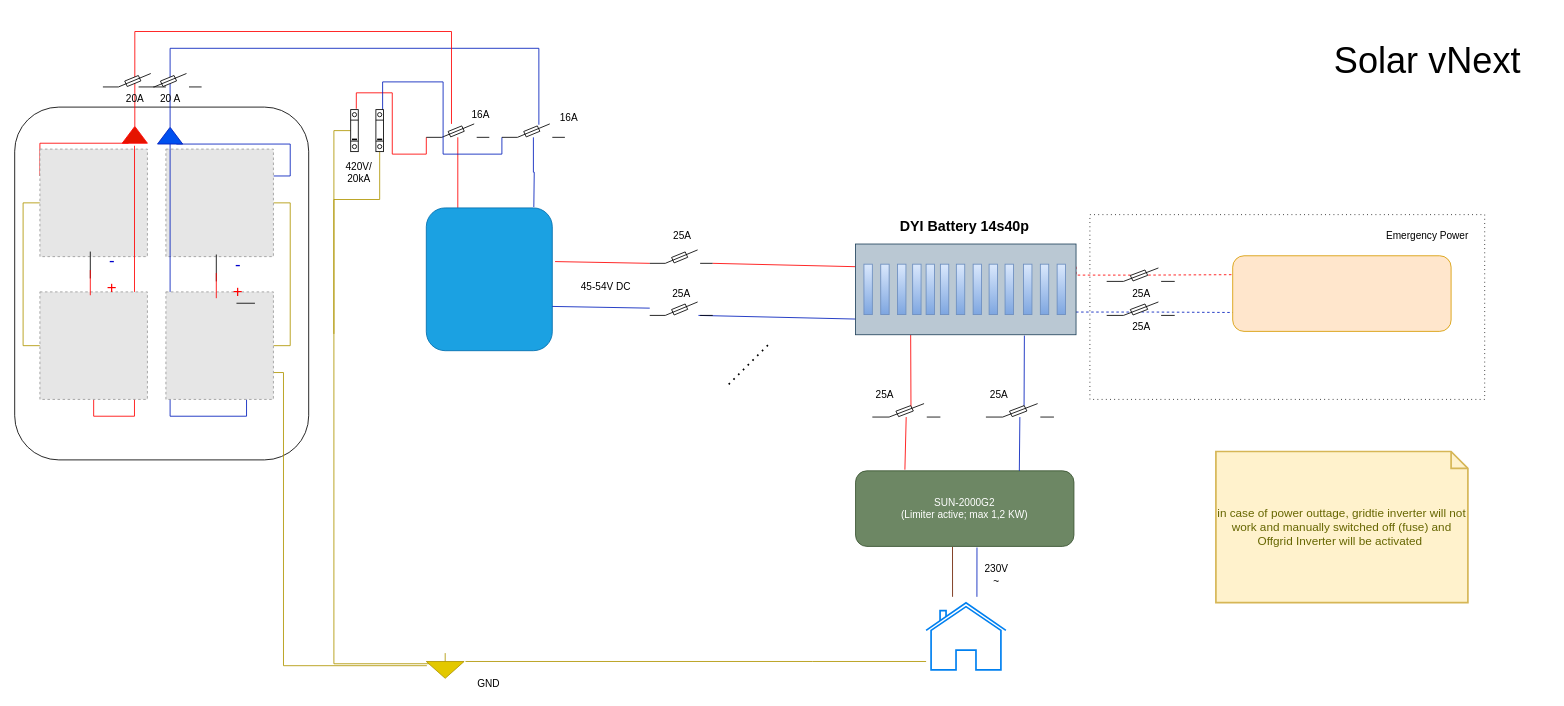
The diagram is 1564 pixels wide and 706 high, and some of its shapes have lost their labels. Grey dashed boxes stand in for pictures. The centre of each missing label's shape, as x and y in pixels:
House electricity power grid: (x=965, y=635)
OffGrid Inverter (Emergency Power; 1,2 KW cont.): (x=1341, y=293)
PowMr MPPT (max 60A) Solar Charge Controller: (x=488, y=279)
